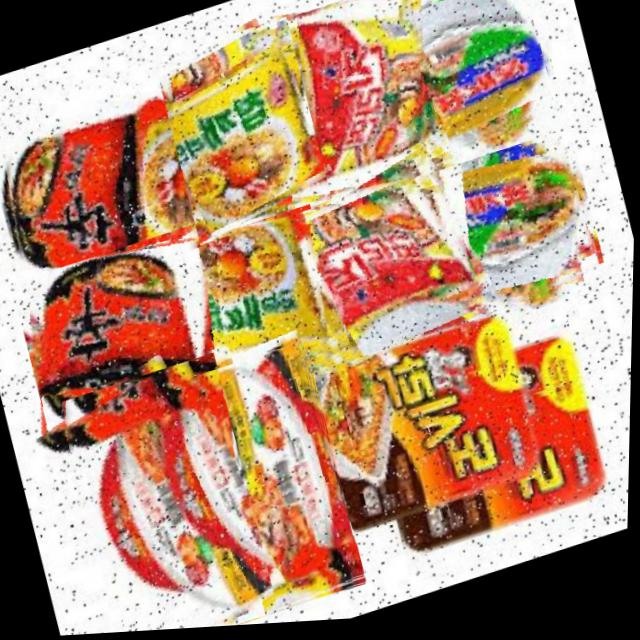Miscellaneous: (38, 350, 286, 638), (150, 338, 374, 632), (9, 220, 251, 470), (95, 16, 336, 266), (0, 49, 205, 303), (238, 0, 461, 231), (278, 150, 496, 374), (142, 195, 358, 417), (408, 133, 606, 337), (364, 0, 561, 174)
